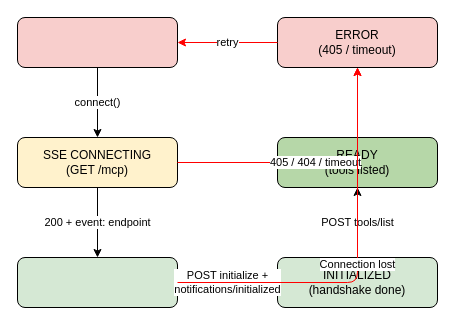
Image size: 455x325. Some labels were removed from this diagram. Here are the shapes that lost their labels. From the top down, the centre of each, then its label:
At [97,42]: "DISCONNECTED".
At [97,282]: "SSE OPEN (endpoint received)".
